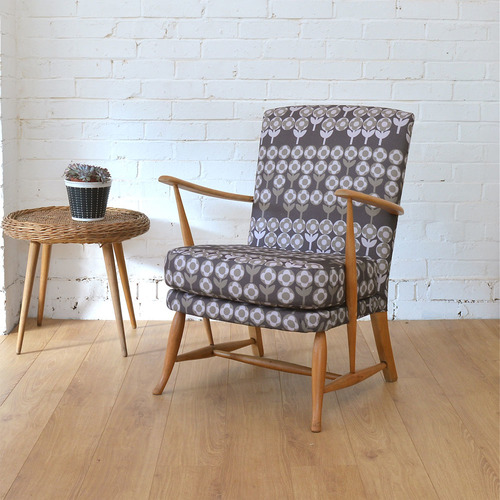chairs: (152, 102, 415, 432)
